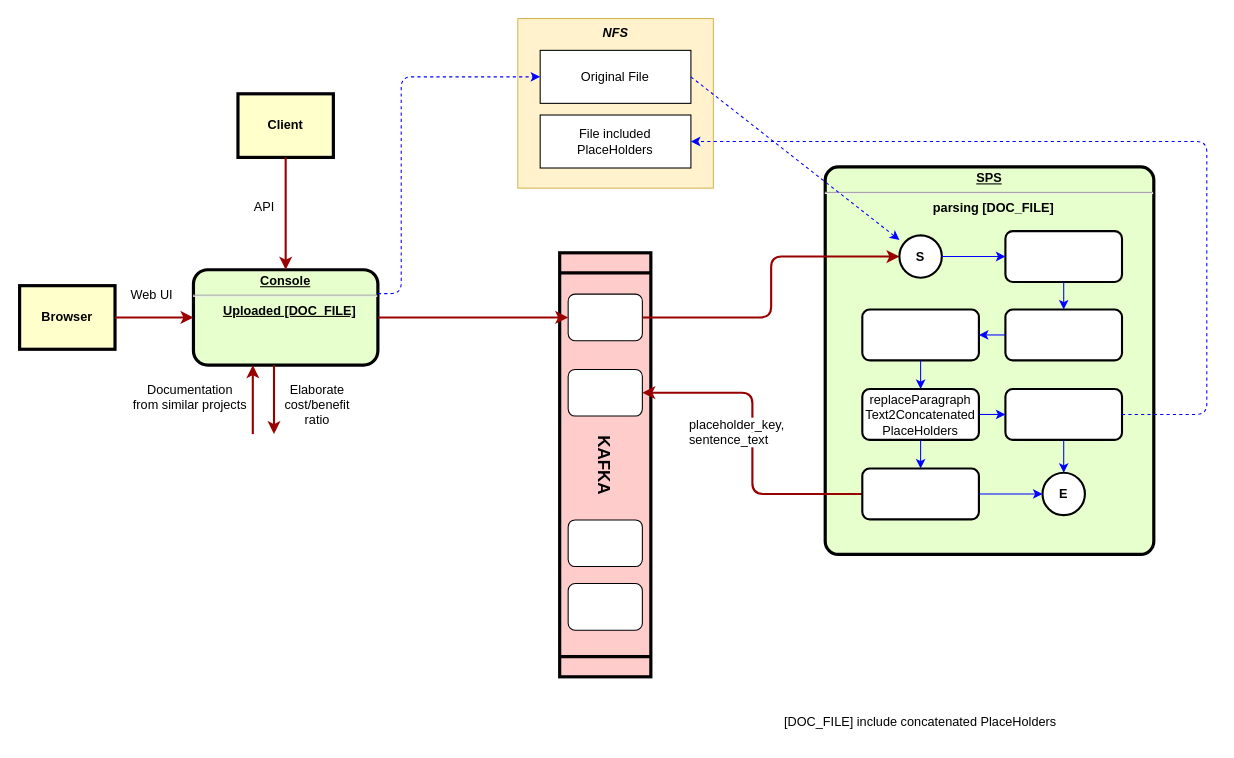
Some shapes in this 1234 by 758 pixel diagram are drawn without their labels. The centre of each missing label's shape, as x and y in pixels:
extractParagraph Text: point 1063,255
Make Kafka Message: point 920,493
replaceSentence 2PlaceHolder: point 920,334
splitSentences: point 1063,334
Write File: point 1063,413
